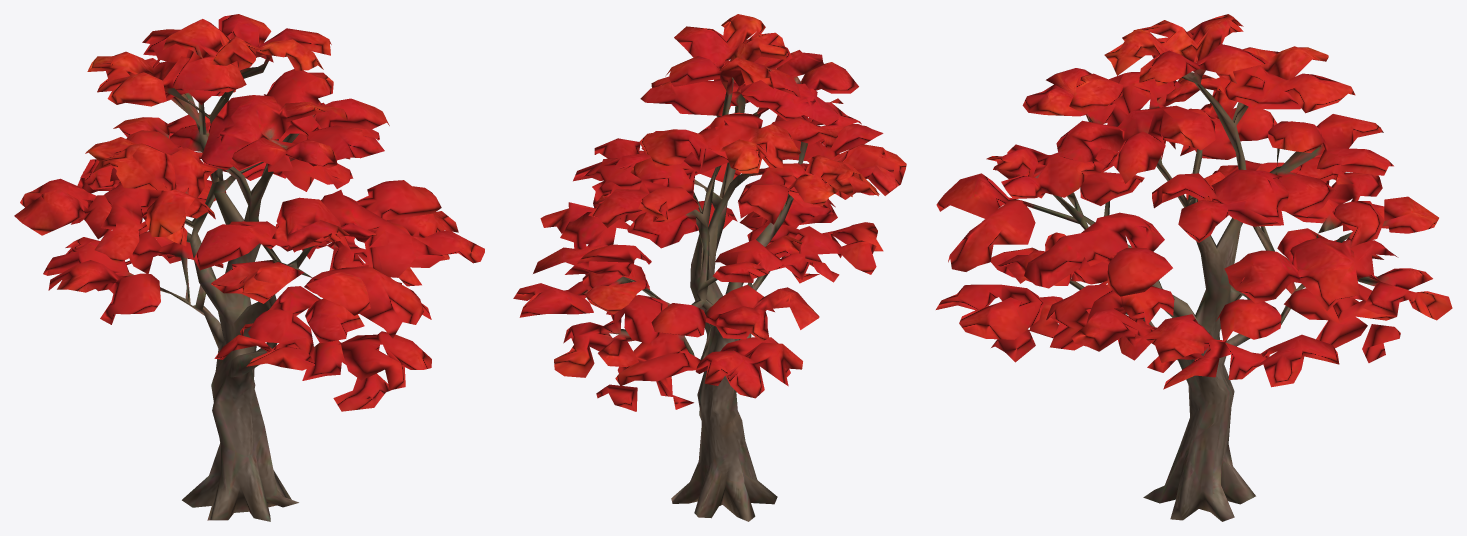
The model's file is prop_phong_do.e56254a8c9.glb.
3 views of the same model, side by side, from view 1: azimuth 30°, elevation 25°; view 2: azimuth 150°, elevation 25°; view 3: azimuth 270°, elevation 25° (orthographic). The views are drawn at different scales.
Visible parts, largest first — view 1: prop_phong_do; view 2: prop_phong_do; view 3: prop_phong_do.
Boxes of the visible parts, x1,y1,x2,y2 form: prop_phong_do: [14, 14, 484, 521]; prop_phong_do: [513, 14, 906, 521]; prop_phong_do: [936, 14, 1452, 521].
Size of what is drawn, in the model's own units: 7 by 9 by 8.91.
Materials: 1 (1 with a texture image).
